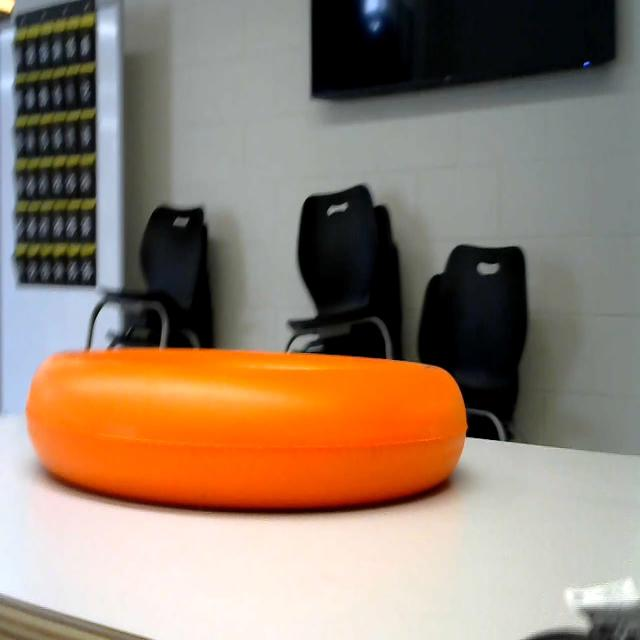note: (13, 333, 482, 513)
